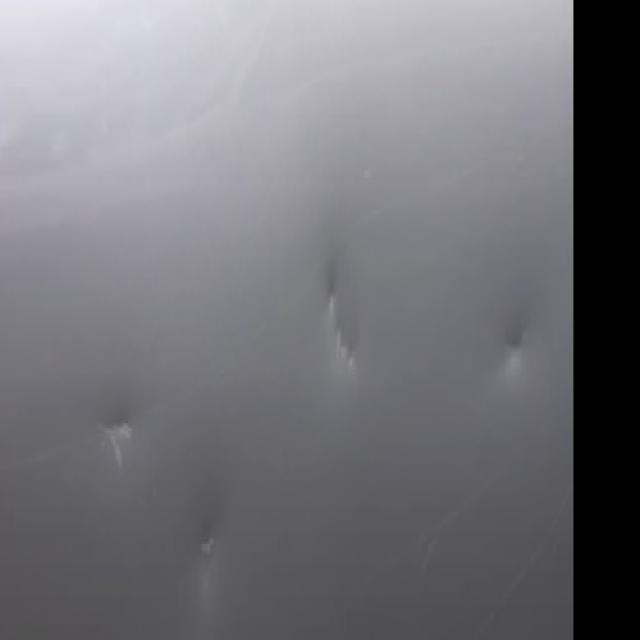dent: (317, 247, 371, 383), (90, 402, 163, 469), (494, 321, 542, 398), (191, 501, 232, 580)
